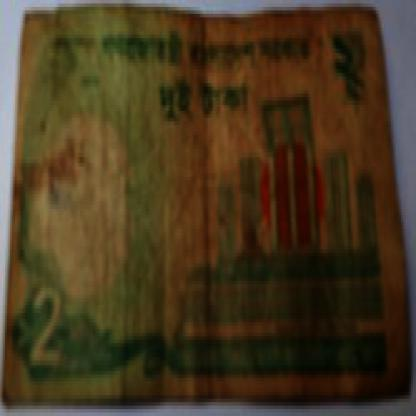two taka: (156, 45, 238, 135), (27, 284, 65, 374)
